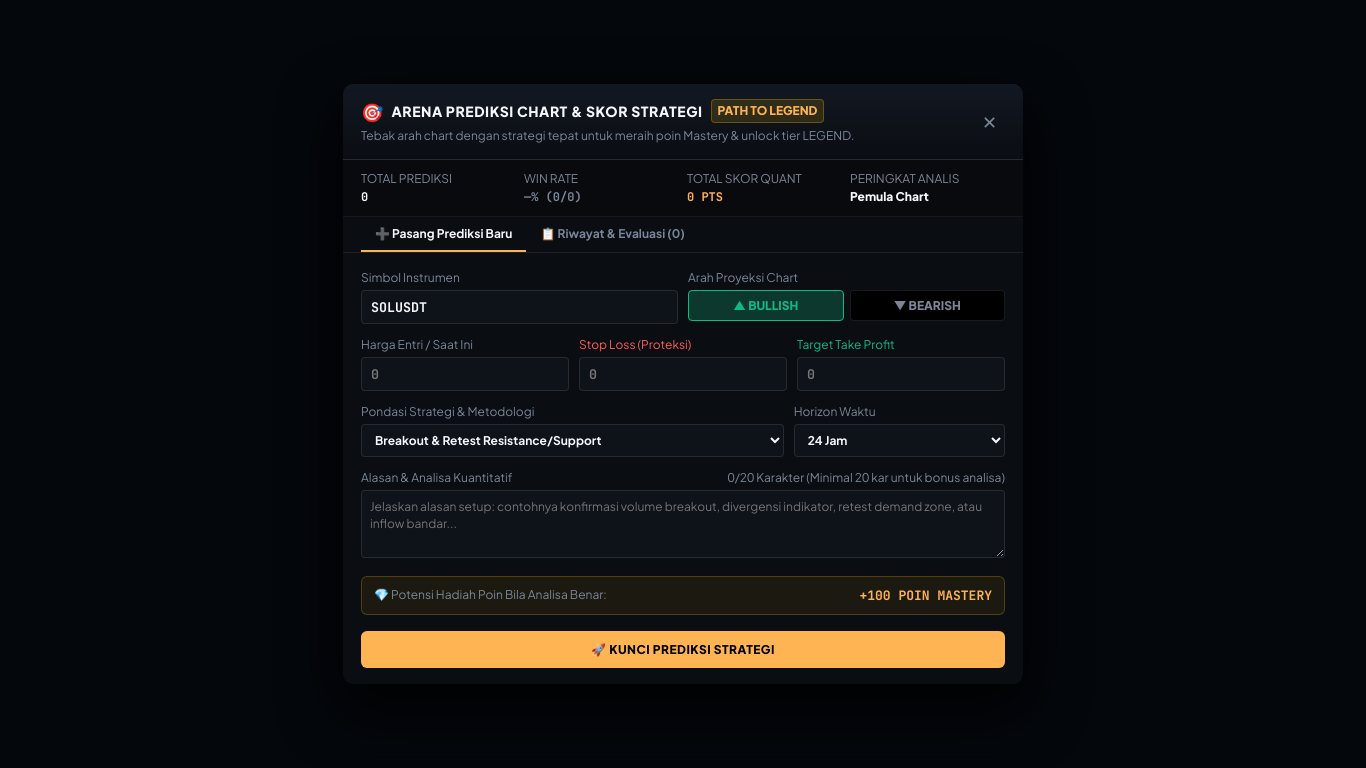
Test case: ChartPredictionModal › locks a valid prediction, displays success banner, and records potential points
The width and height of the screenshot is (1366, 768).
Type "100" into the number field labelled "Harga Entri / Saat Ini" at (465, 374), box x1=361 y1=357 x2=569 y2=391
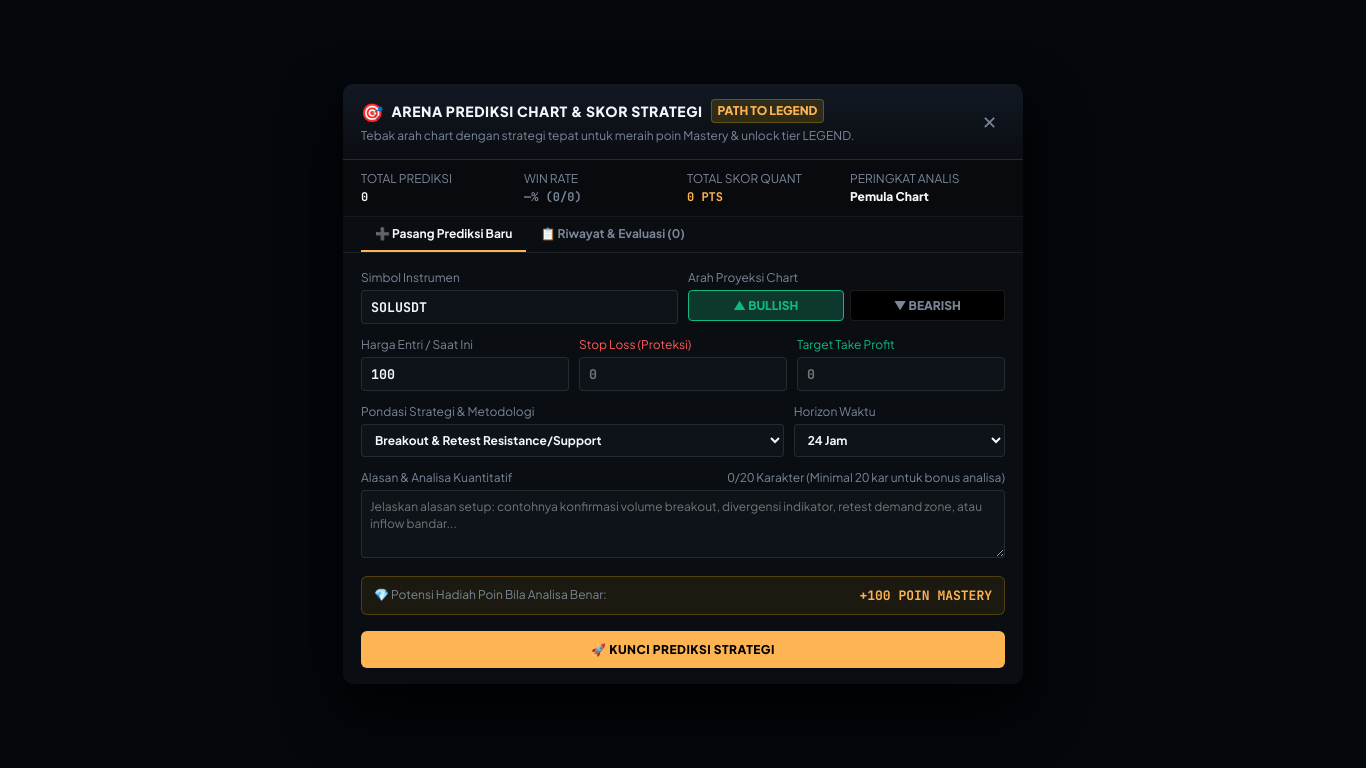
Type "95" into the number field labelled "Stop Loss (Proteksi)" at (683, 374), box x1=579 y1=357 x2=787 y2=391
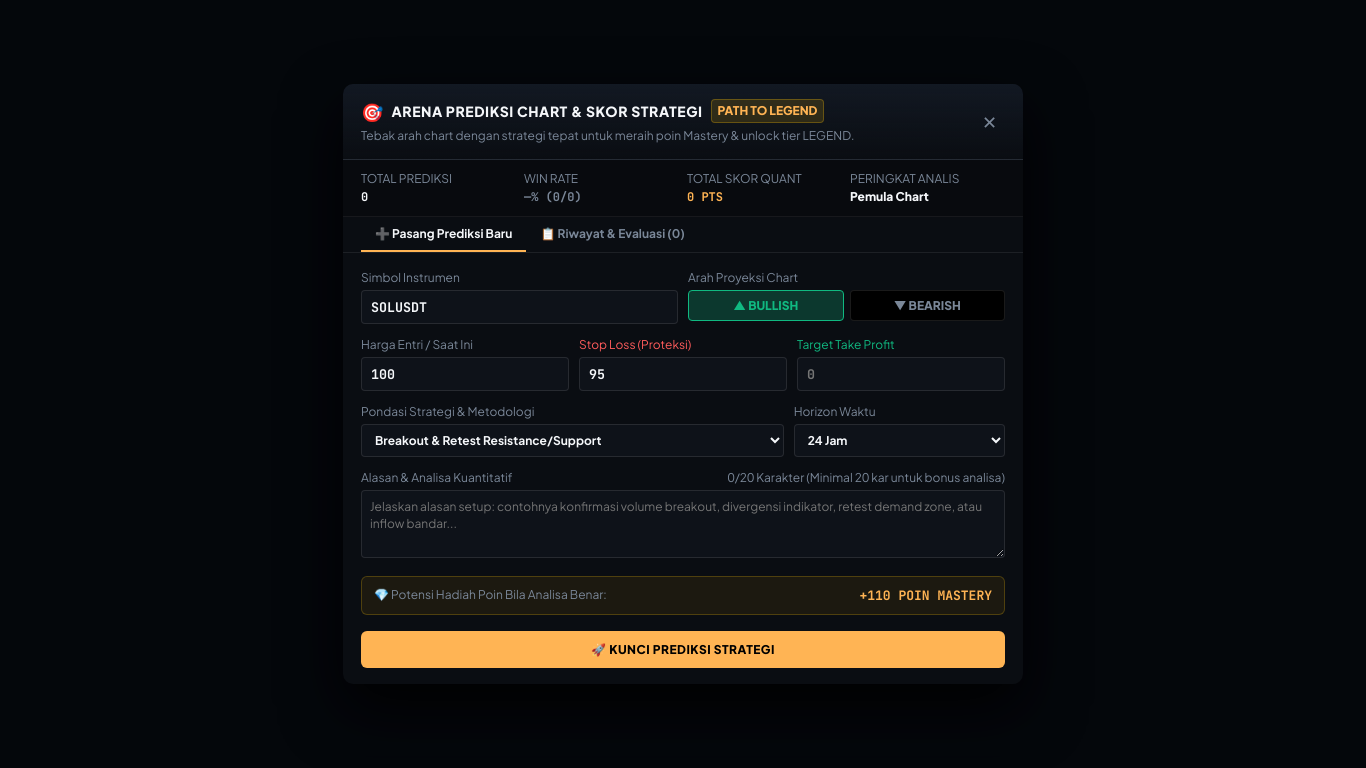
Type "115" into the number field labelled "Target Take Profit" at (901, 374), box x1=797 y1=357 x2=1005 y2=391
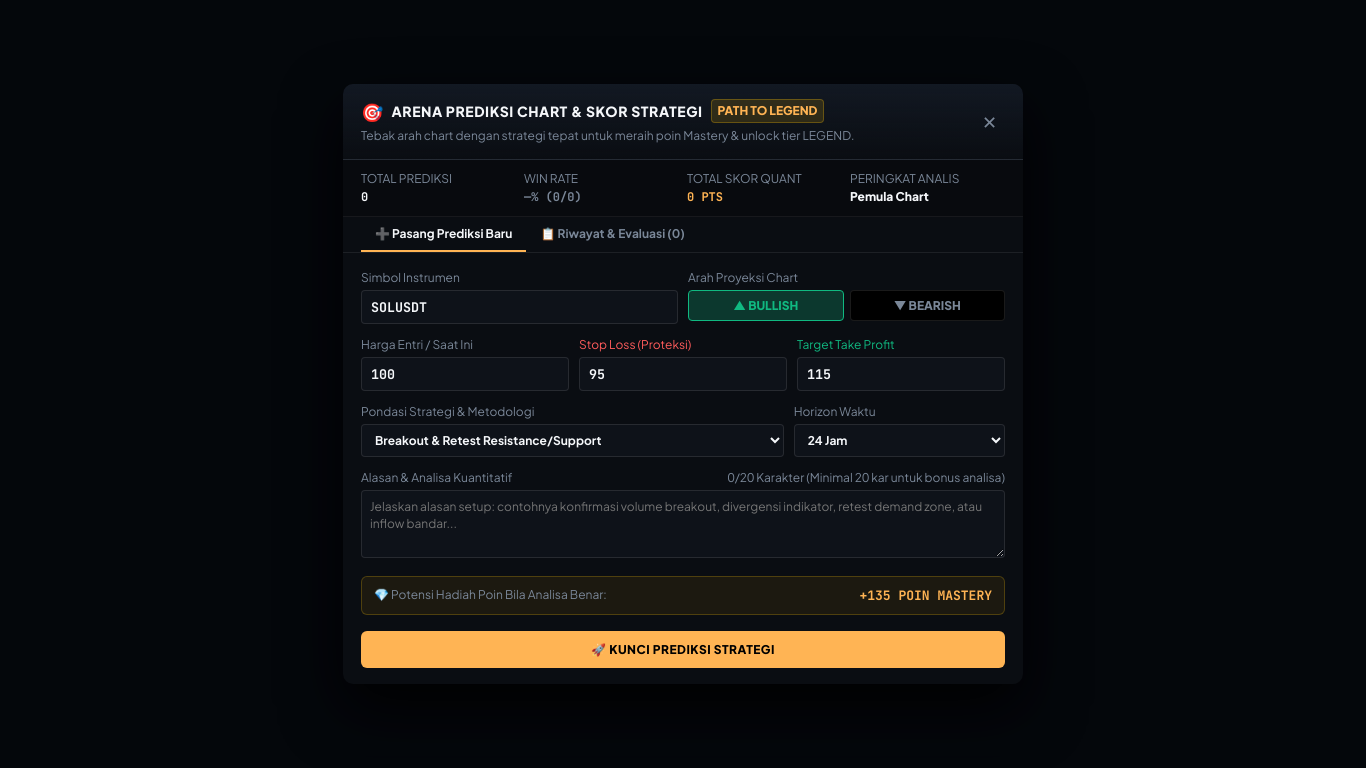
Replace the text in the text box labelled "Alasan & Analisa Kuantitatif" with "Konfirmasi bullish engulfing pada 4h demand zone kuat" at (683, 524), box x1=361 y1=490 x2=1005 y2=558
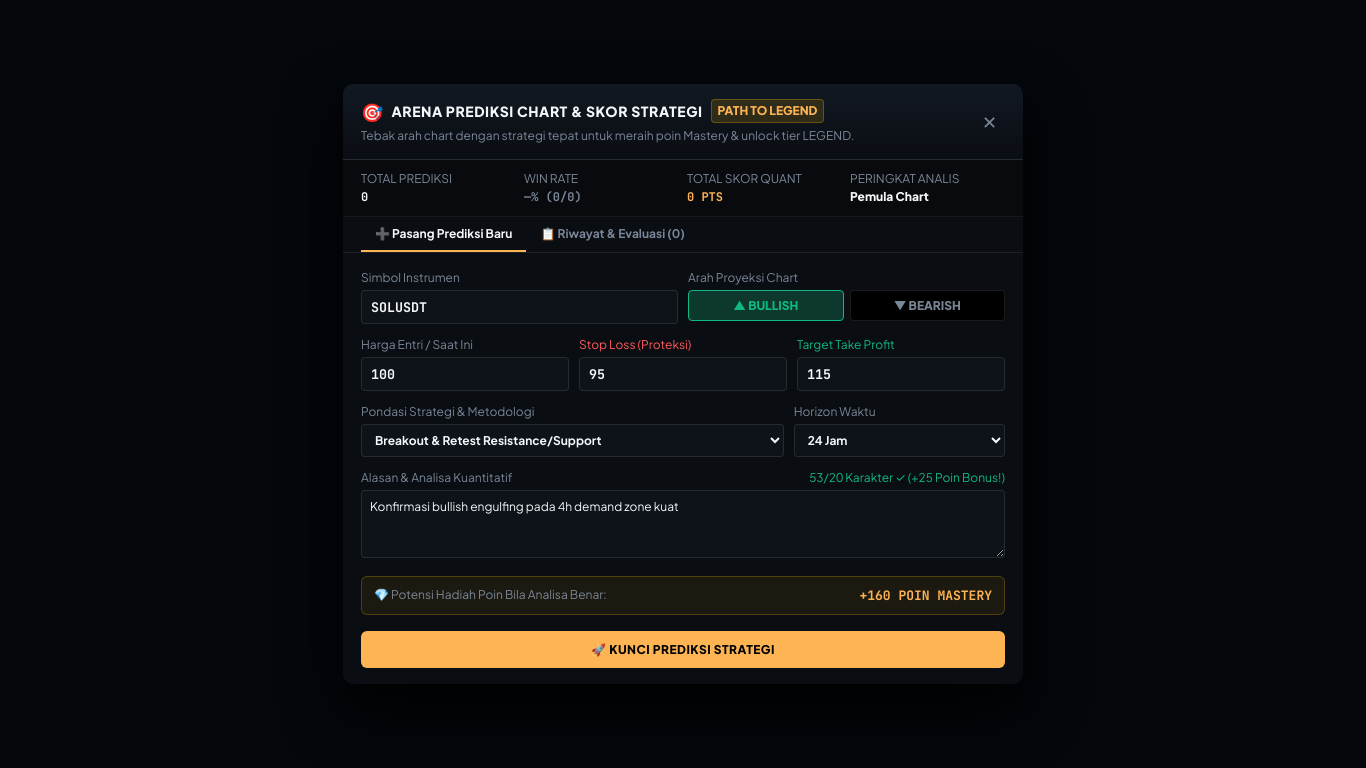
Click the button "🚀 KUNCI PREDIKSI STRATEGI" at (683, 650), box x1=361 y1=631 x2=1005 y2=668
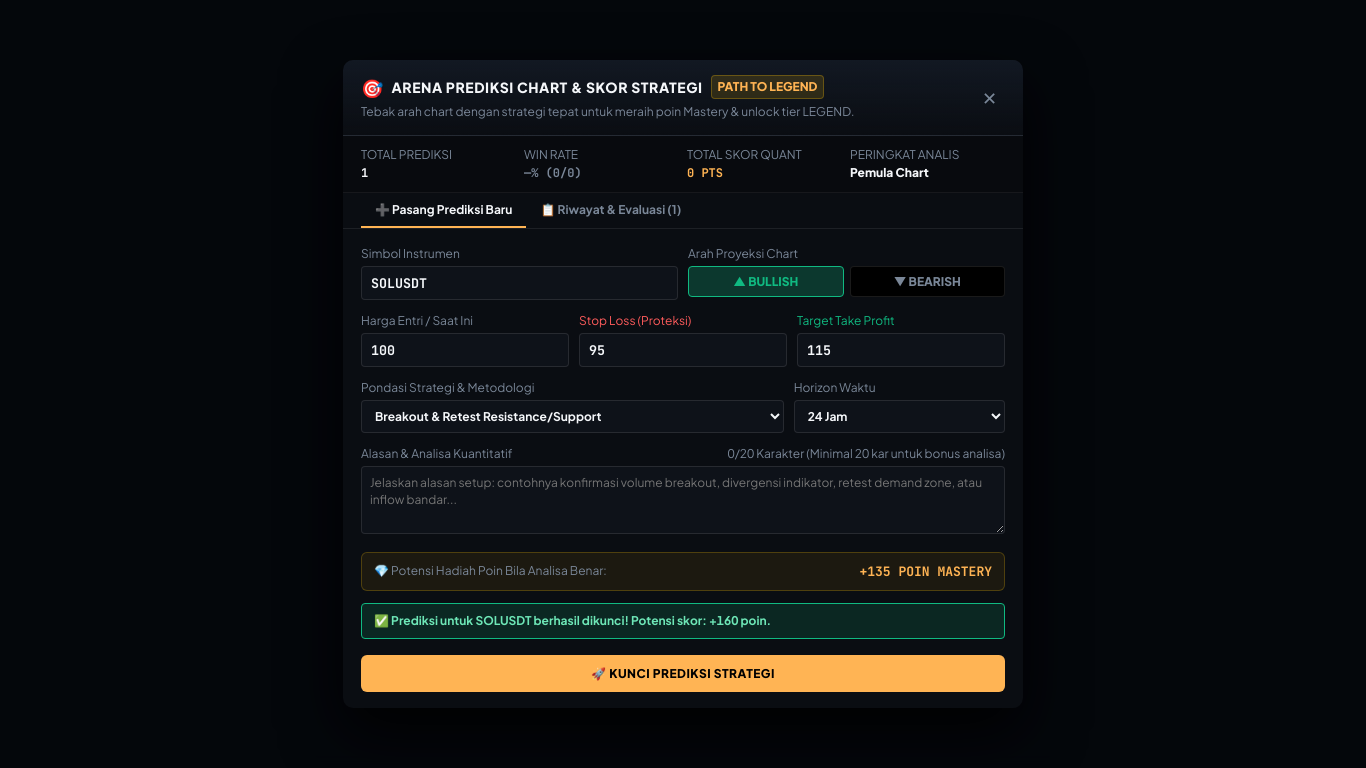
Expected: the text "berhasil dikunci" is shown, x1=374 y1=613 x2=771 y2=628
